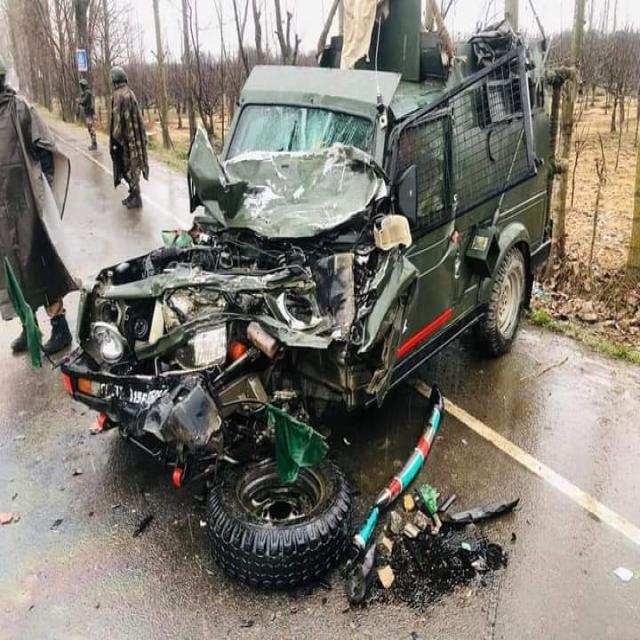accident: (60, 0, 550, 604)
